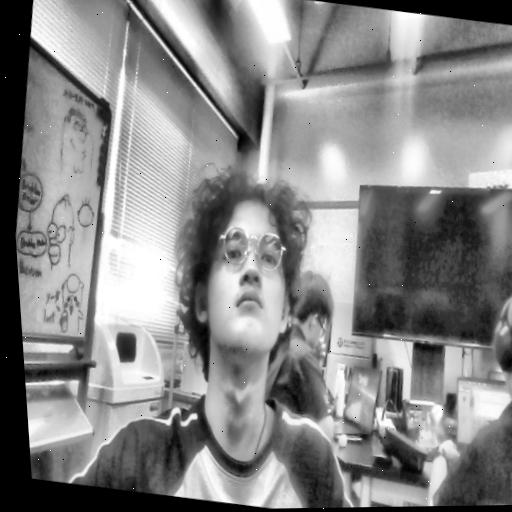Daifuku: (151, 158, 319, 386)
Not Daifuku: (285, 269, 343, 380), (481, 279, 512, 399)
